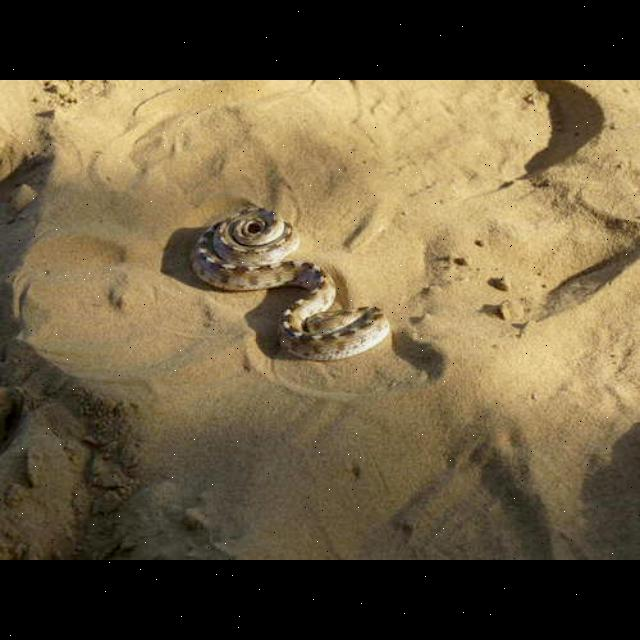snake: (194, 209, 390, 357)
